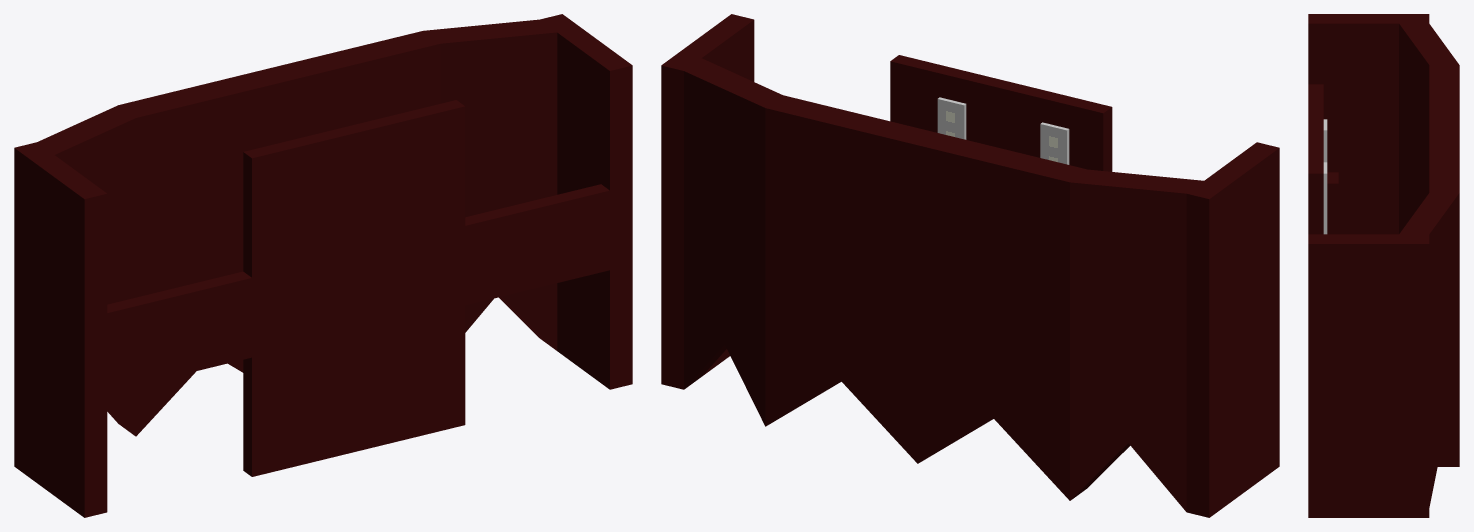
File: svetulnik.fbx
The picture shows the model from 3 angles, left to right: view 1: azimuth 30°, elevation 25°; view 2: azimuth 150°, elevation 25°; view 3: azimuth 270°, elevation 25°; orthographic projection. The views are drawn at different scales.
Visible parts, largest first — view 1: cube_11, cube_2, cube_16, cube_17, cube_1, cube_13, cube_12, cube, cube_3, cube_9, cube_5; view 2: cube_2, cube, cube_16, cube_1, cube_11, cube_17, cube_8, cube_4, cube_6, cube_9, cube_5, cube_10 (+4 smaller); view 3: cube_17, cube_16, cube_1, cube, cube_2, cube_11, cube_7, cube_3, cube_15, ledstrip2, ledstrip1.
Boxes of the visible parts, x1,y1,x2,y2 form: cube_11: (243,100,465,476); cube_2: (118,31,440,297); cube_16: (14,142,107,517); cube_17: (540,14,632,389); cube_1: (423,19,557,290); cube_13: (465,184,609,305); cube_12: (107,271,251,392); cube: (37,105,135,304); cube_3: (499,287,557,350); cube_9: (136,371,196,436); cube_5: (107,386,135,436); cube_2: (765,95,1087,437); cube: (1070,169,1203,448); cube_16: (1186,142,1279,517); cube_1: (684,58,782,362); cube_11: (890,55,1112,171); cube_17: (661,14,754,389); cube_8: (917,400,993,463); cube_4: (765,363,840,426); cube_6: (842,382,917,463); cube_9: (994,419,1069,500); cube_5: (1070,437,1130,500); cube_10: (1128,443,1186,511); cube_17: (1308,234,1429,517); cube_16: (1308,14,1429,234); cube_1: (1399,193,1459,452); cube: (1399,23,1458,233); cube_2: (1429,65,1459,192); cube_11: (1308,84,1323,234); cube_7: (1437,412,1459,466); cube_3: (1429,433,1444,507); cube_15: (1327,172,1338,207); ledstrip2: (1323,162,1327,234); ledstrip1: (1323,119,1327,162).
Bounding box in the file's own units: 22.5 × 12.5 × 6.25.
Materials: 2 (2 with a texture image).
